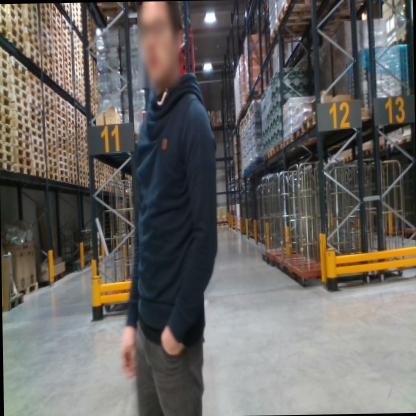pallet: (300, 105, 374, 133), (276, 1, 373, 22), (269, 22, 324, 47), (290, 126, 347, 142), (283, 136, 329, 148), (14, 280, 39, 301), (6, 291, 28, 313), (9, 54, 28, 76), (9, 74, 28, 93), (244, 87, 268, 102), (10, 82, 29, 100), (10, 23, 24, 46), (9, 93, 29, 109), (10, 16, 25, 37), (12, 111, 30, 128), (385, 134, 401, 153), (13, 137, 32, 153), (23, 18, 39, 37), (23, 10, 39, 29), (9, 65, 27, 81), (12, 126, 30, 142), (13, 152, 31, 168), (24, 26, 40, 44), (11, 34, 24, 56), (10, 10, 24, 30), (39, 28, 53, 47), (358, 147, 373, 164), (14, 145, 31, 160), (25, 50, 40, 67), (25, 41, 40, 58), (24, 34, 39, 51), (400, 132, 414, 149), (22, 5, 39, 19), (0, 92, 13, 110), (12, 119, 30, 132), (14, 164, 33, 176), (13, 102, 28, 117), (27, 80, 42, 95), (38, 36, 53, 51), (29, 120, 45, 134), (28, 95, 42, 111), (27, 87, 43, 101), (38, 9, 51, 26), (39, 17, 52, 34), (39, 22, 52, 39), (374, 141, 386, 159), (48, 269, 63, 283), (0, 158, 14, 173), (29, 134, 44, 148), (27, 104, 42, 118), (39, 43, 53, 58), (41, 58, 54, 74), (0, 22, 11, 40), (60, 14, 71, 32), (0, 103, 13, 118), (29, 126, 44, 139), (30, 111, 43, 126), (42, 82, 54, 98), (43, 92, 55, 108), (53, 67, 64, 84), (0, 122, 13, 136), (0, 113, 14, 126), (32, 159, 46, 172), (40, 66, 53, 80), (251, 158, 263, 173), (38, 4, 50, 19), (50, 10, 61, 26), (272, 139, 282, 156), (0, 45, 10, 62), (0, 14, 10, 31), (40, 53, 53, 66), (43, 120, 56, 133), (0, 141, 14, 153), (30, 144, 44, 156), (42, 98, 54, 112), (239, 102, 254, 113), (9, 6, 24, 17), (0, 149, 13, 161), (0, 131, 12, 144), (44, 106, 56, 119), (46, 164, 58, 177), (53, 76, 65, 89), (342, 155, 356, 166), (0, 85, 11, 99), (27, 72, 41, 83), (43, 135, 57, 146), (42, 142, 56, 153), (55, 133, 66, 147), (54, 57, 65, 71), (71, 58, 82, 72), (0, 56, 9, 73), (0, 4, 9, 20), (55, 101, 67, 113), (71, 81, 83, 93), (45, 148, 56, 161), (56, 126, 67, 139), (59, 24, 70, 37), (72, 70, 83, 83), (32, 168, 46, 178), (62, 44, 72, 58), (0, 74, 9, 89), (51, 17, 60, 32), (61, 31, 70, 46), (56, 147, 68, 158), (56, 119, 66, 132), (52, 30, 62, 43), (60, 3, 70, 16), (60, 37, 70, 50), (0, 67, 9, 81), (31, 153, 45, 162), (63, 55, 72, 69), (44, 128, 55, 139), (57, 141, 68, 152), (49, 3, 60, 14), (43, 115, 55, 125), (55, 115, 67, 125), (53, 64, 63, 76), (74, 131, 84, 143), (71, 37, 81, 49), (55, 92, 64, 105), (54, 50, 63, 63), (24, 3, 38, 11), (63, 48, 71, 62), (71, 15, 79, 29), (57, 154, 68, 164), (65, 102, 75, 113), (56, 161, 68, 170), (65, 88, 74, 100), (63, 127, 75, 136), (67, 156, 76, 168), (75, 120, 84, 132), (74, 87, 83, 99), (52, 22, 60, 35), (56, 108, 66, 118), (66, 120, 76, 130), (67, 169, 77, 179), (74, 116, 84, 126), (72, 55, 82, 65), (46, 158, 57, 167), (47, 172, 58, 181), (53, 43, 62, 54), (63, 75, 72, 86), (65, 81, 74, 92), (76, 151, 85, 162), (74, 139, 85, 148), (72, 49, 81, 60), (72, 31, 81, 42), (262, 150, 269, 164), (9, 4, 23, 11), (64, 61, 72, 73), (64, 68, 72, 80), (72, 10, 79, 23), (66, 133, 75, 143), (74, 143, 84, 152), (75, 126, 84, 136), (73, 78, 82, 88), (53, 37, 61, 48), (94, 255, 105, 263), (76, 162, 87, 170), (75, 157, 86, 165), (71, 4, 79, 15), (38, 4, 50, 11), (66, 110, 75, 119), (65, 116, 74, 125), (68, 176, 77, 185), (73, 67, 82, 76), (72, 45, 81, 54), (67, 139, 75, 149), (75, 109, 83, 119), (74, 95, 82, 105), (57, 175, 68, 182), (268, 147, 273, 162), (67, 147, 76, 155), (67, 152, 76, 160), (77, 178, 86, 186), (87, 74, 93, 86), (59, 169, 69, 176), (92, 171, 99, 181), (86, 34, 93, 44), (216, 221, 227, 227), (68, 164, 76, 172), (98, 174, 106, 182), (79, 6, 87, 14), (0, 4, 9, 11), (77, 173, 86, 180), (70, 3, 79, 10), (84, 8, 91, 17), (82, 120, 88, 129), (89, 92, 94, 102), (77, 169, 85, 175), (92, 156, 98, 164), (98, 159, 104, 167), (104, 161, 110, 169), (89, 89, 95, 97), (89, 99, 95, 107), (87, 30, 92, 39), (88, 70, 93, 79), (93, 183, 100, 189), (98, 166, 105, 172), (86, 26, 92, 33), (86, 15, 92, 22), (90, 110, 96, 117), (88, 63, 92, 73), (89, 84, 94, 92), (93, 179, 99, 185), (99, 171, 105, 177), (104, 169, 110, 175), (85, 172, 91, 178), (78, 17, 82, 26), (86, 22, 92, 28), (88, 53, 92, 62), (105, 172, 110, 179), (83, 143, 88, 150), (85, 177, 90, 184), (90, 105, 95, 112), (105, 185, 110, 192), (249, 162, 252, 173), (227, 176, 235, 180), (227, 173, 235, 177), (226, 160, 234, 164), (78, 12, 82, 20), (82, 115, 87, 121), (83, 137, 88, 143), (84, 160, 89, 166), (105, 179, 109, 186), (89, 59, 92, 68), (93, 168, 98, 173), (85, 167, 90, 172), (226, 164, 234, 167), (109, 165, 113, 171), (109, 170, 113, 176), (84, 128, 88, 134), (84, 132, 88, 138), (84, 156, 88, 162), (79, 24, 82, 32), (78, 28, 82, 34), (99, 182, 106, 185), (93, 164, 98, 168), (85, 150, 89, 155), (226, 171, 235, 173), (87, 181, 90, 187), (226, 169, 234, 171), (226, 167, 234, 169)
